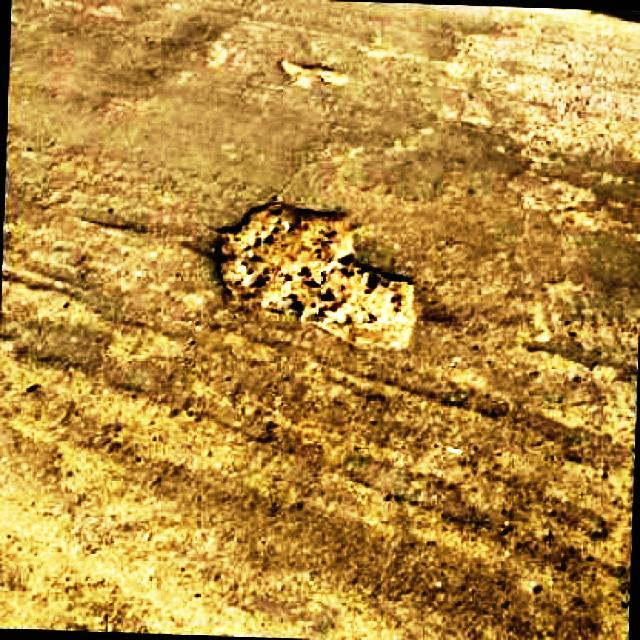pothole: (211, 200, 420, 355)
